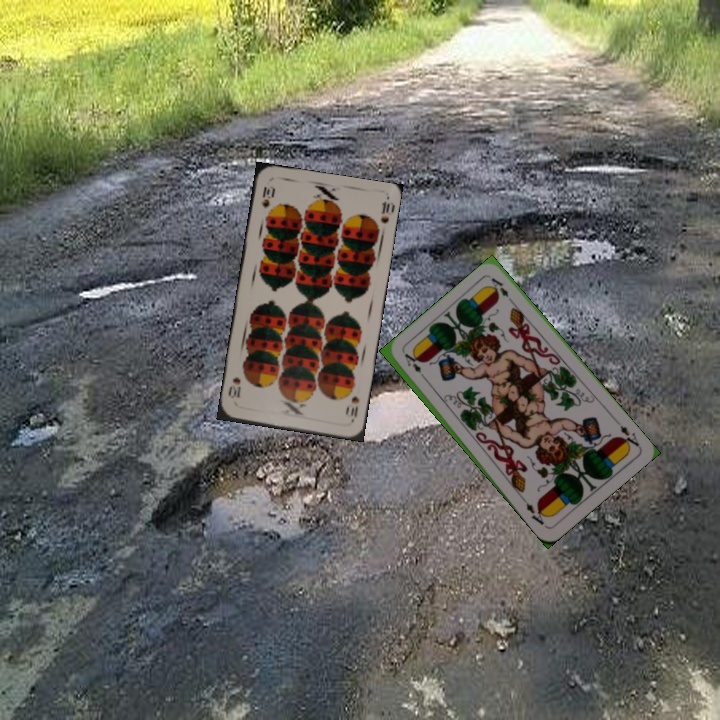EA: (611, 416, 642, 452), (400, 350, 430, 383)
S10: (257, 182, 276, 211), (346, 392, 362, 420)
